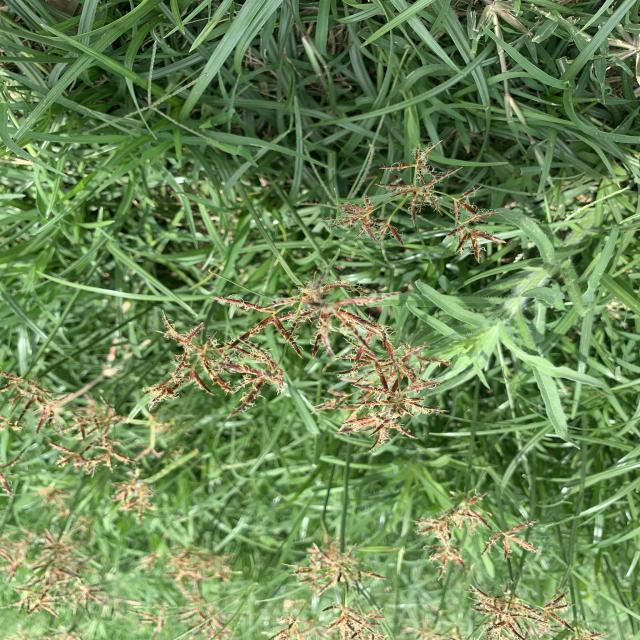cyperus: (142, 266, 448, 456), (322, 142, 504, 267), (0, 522, 115, 640), (411, 479, 538, 582), (124, 543, 240, 640), (270, 553, 391, 640), (470, 593, 612, 640), (64, 404, 140, 472), (1, 374, 68, 434), (111, 468, 159, 526), (402, 616, 462, 640), (34, 479, 74, 514), (0, 452, 26, 497)
